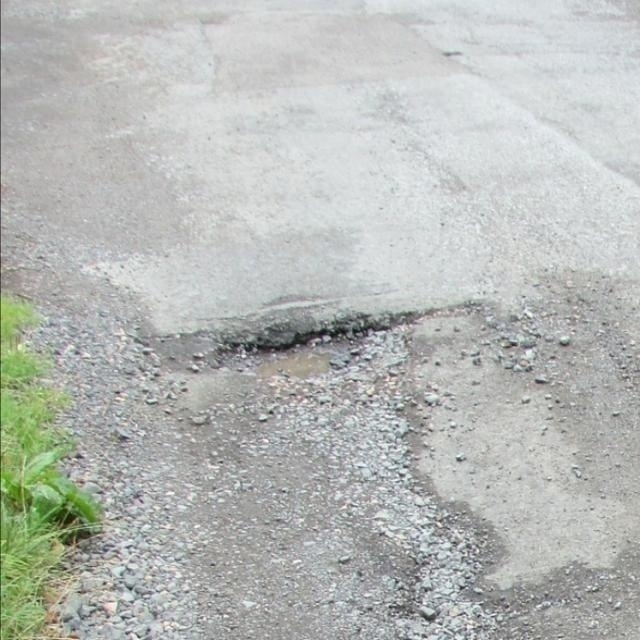pothole: (172, 244, 481, 460)
